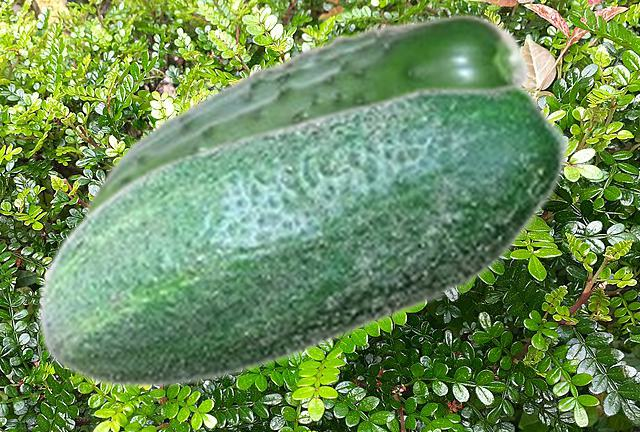cucumber: (36, 82, 571, 388), (84, 13, 530, 212)
